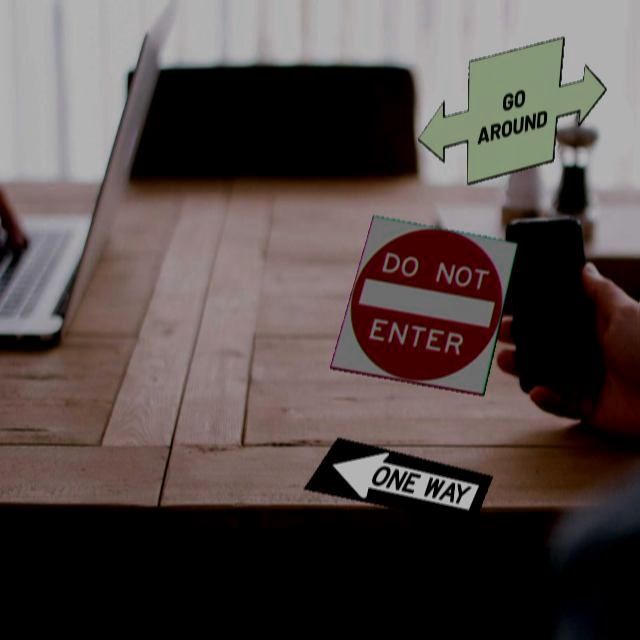DO_NOT_ENTER: (330, 214, 520, 395)
GO_AROUND: (418, 35, 608, 184)
ONE_WAY_ left: (304, 436, 494, 524)
